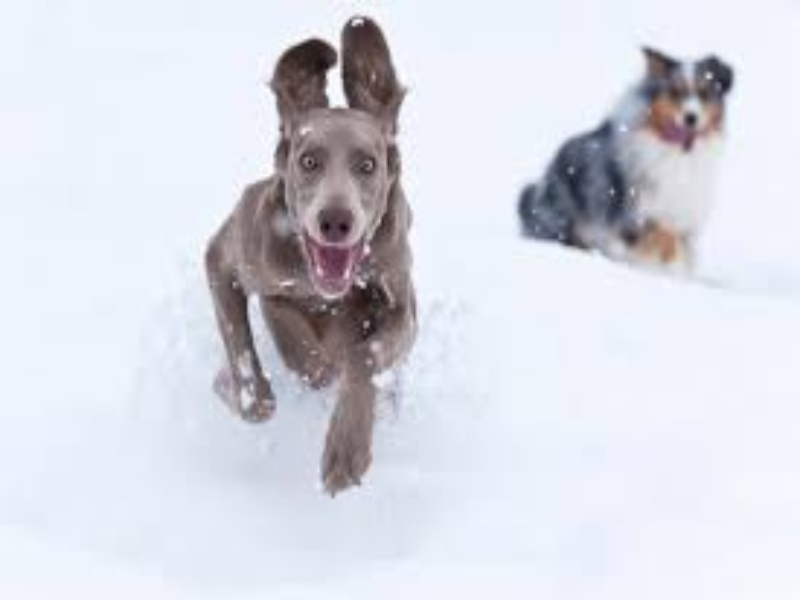dog: (204, 13, 422, 502)
